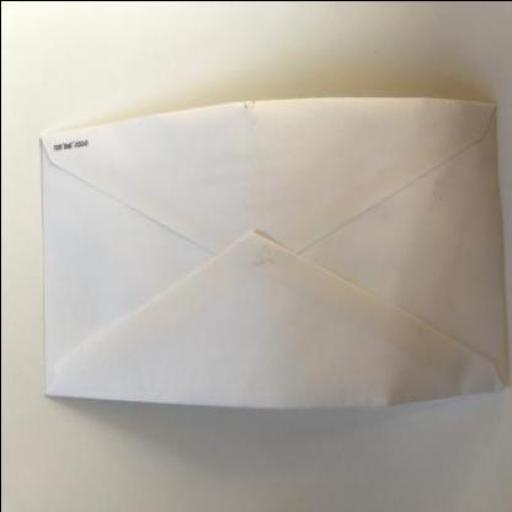paper: (38, 98, 505, 408)
